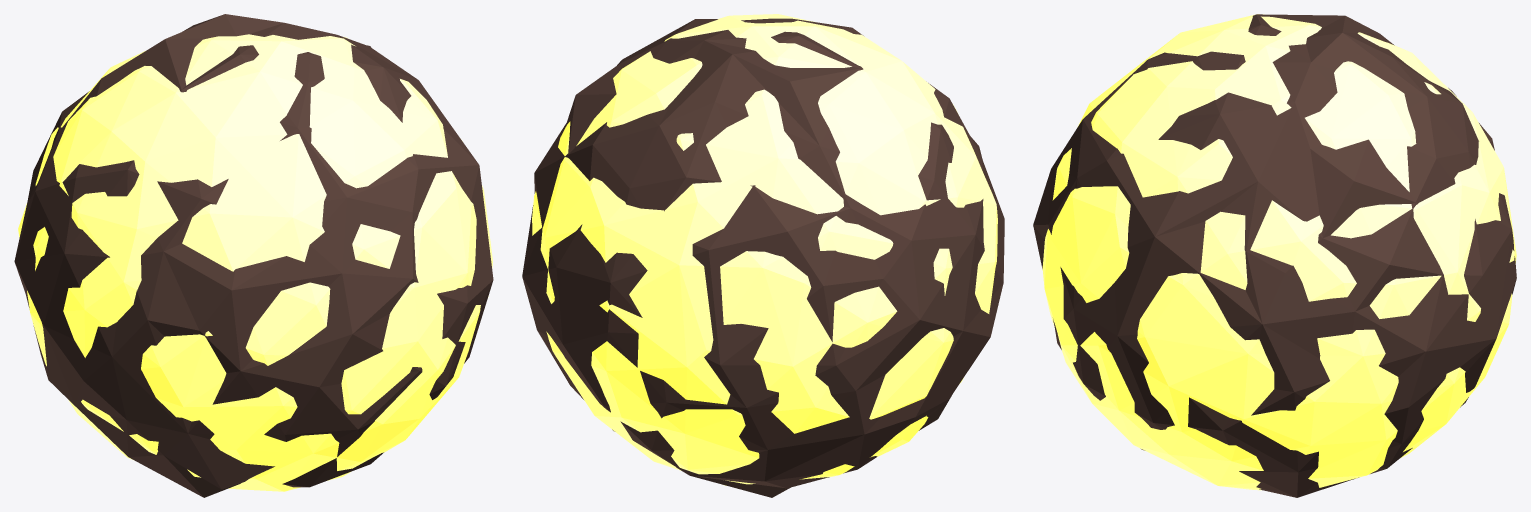
File: lava_planet6.fbx
3 renders of one model, left to right at view 1: azimuth 30°, elevation 25°; view 2: azimuth 150°, elevation 25°; view 3: azimuth 270°, elevation 25°, orthographic.
Parts seen in each view (by area): view 1: lava_planet6; view 2: lava_planet6; view 3: lava_planet6.
Part boxes in pixels (x1=…): lava_planet6: x1=14, y1=14, x2=493, y2=497; lava_planet6: x1=522, y1=14, x2=1004, y2=497; lava_planet6: x1=1033, y1=14, x2=1516, y2=497.
Bounding box in the file's own units: 202 × 203 × 202.
